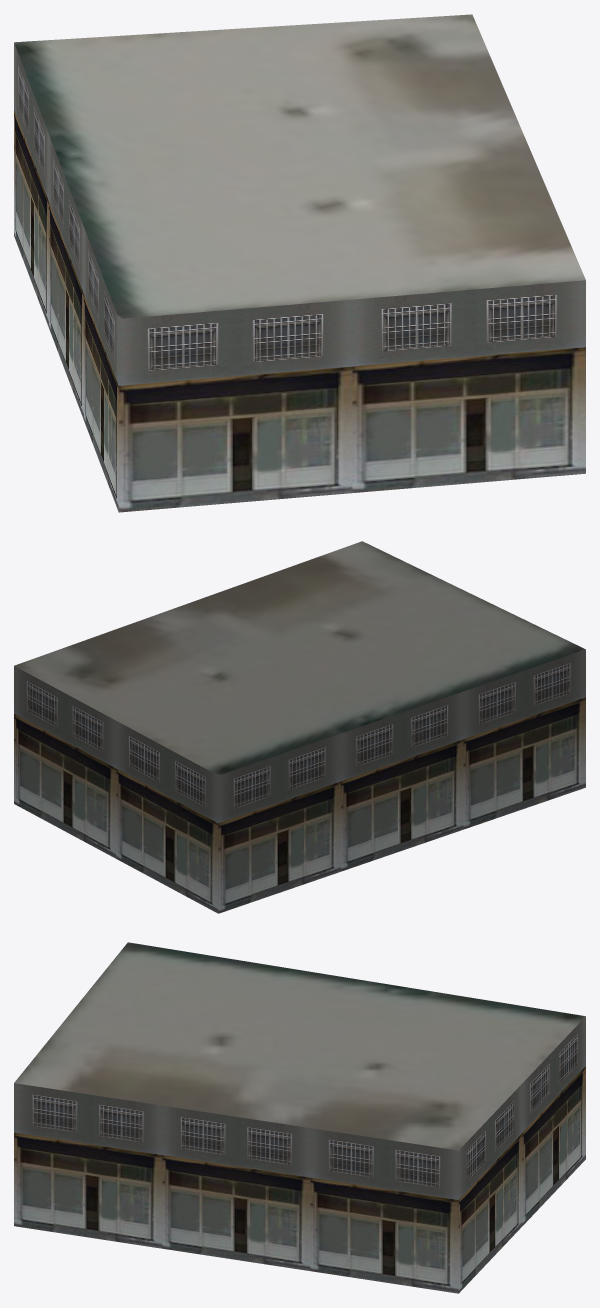
File: T_1T6VB4PFJ6.dae
3 renders of one model, top to bottom at view 1: azimuth 30°, elevation 25°; view 2: azimuth 150°, elevation 25°; view 3: azimuth 270°, elevation 25°, orthographic. The views are drawn at different scales.
Parts seen in each view (by area): view 1: SketchUp (×5); view 2: SketchUp (×5); view 3: SketchUp (×5).
Part boxes in pixels (x1=…): SketchUp (×5): x1=14, y1=14, x2=585, y2=512; SketchUp (×5): x1=14, y1=541, x2=585, y2=913; SketchUp (×5): x1=14, y1=942, x2=585, y2=1293.
Bounding box in the file's own units: 15.73 × 18.26 × 5.04.
Materials: 3 (3 with a texture image).
